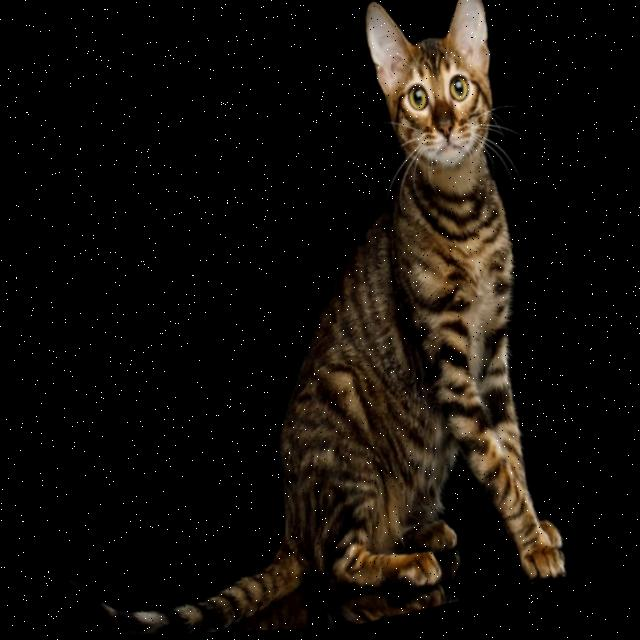Toyger: (0, 0, 603, 640)
